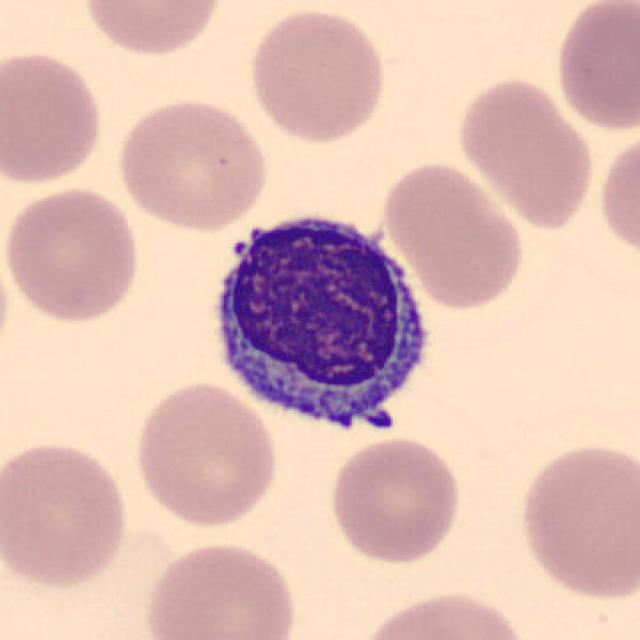Lymphocyte: (196, 199, 444, 448)
RBC: (377, 157, 528, 312), (130, 377, 281, 531), (452, 72, 598, 231), (112, 93, 272, 234), (514, 437, 640, 605), (243, 3, 389, 146), (0, 182, 144, 326), (2, 436, 133, 592), (325, 432, 466, 566), (140, 537, 300, 640), (0, 45, 107, 188), (551, 0, 638, 134), (356, 587, 534, 640), (78, 0, 226, 60), (594, 127, 638, 263)
